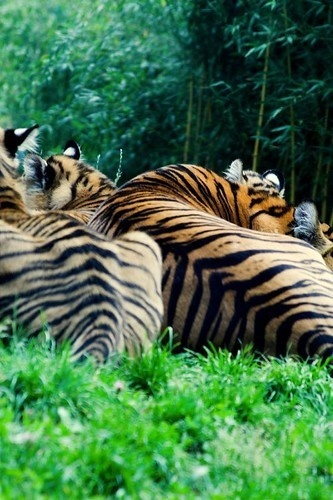tigre: (83, 149, 333, 368), (1, 121, 179, 366)
